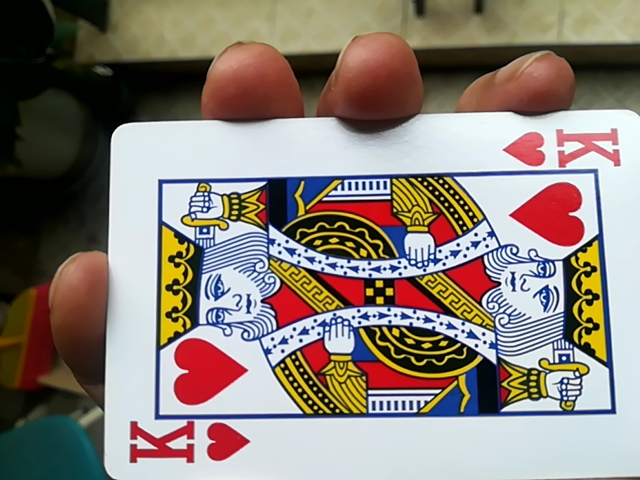hx k: (102, 116, 636, 480)
